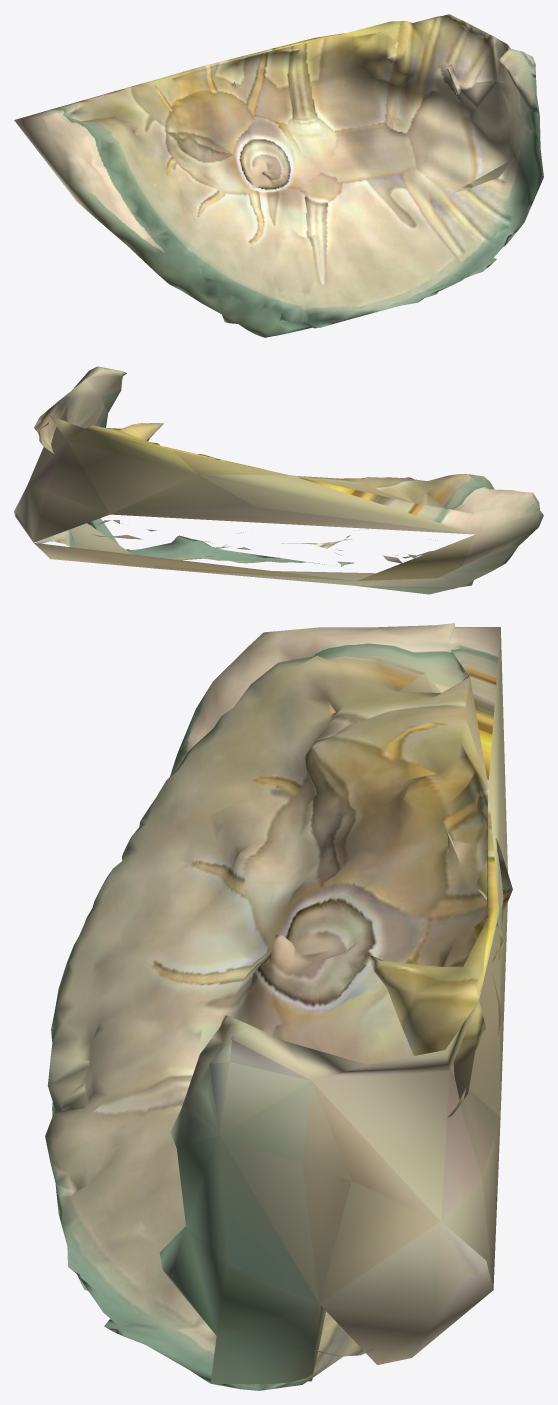
File: cell_creature1_test2.glb
3 renders of one model, top to bottom at view 1: azimuth 30°, elevation 25°; view 2: azimuth 150°, elevation 25°; view 3: azimuth 270°, elevation 25°, orthographic. The views are drawn at different scales.
Bounding box in the file's own units: 1000 × 397 × 431.
Materials: 1 (1 with a texture image).
